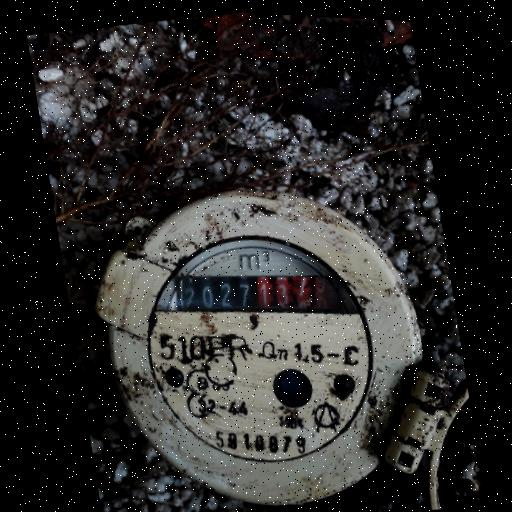0: (194, 274, 220, 312)
1: (253, 274, 276, 310)
2: (213, 272, 239, 311), (176, 274, 201, 313)
3: (271, 273, 296, 312)
7: (287, 272, 314, 312), (231, 272, 258, 311)
9: (309, 272, 333, 311)
border_water_meter_number: (172, 246, 339, 339)
